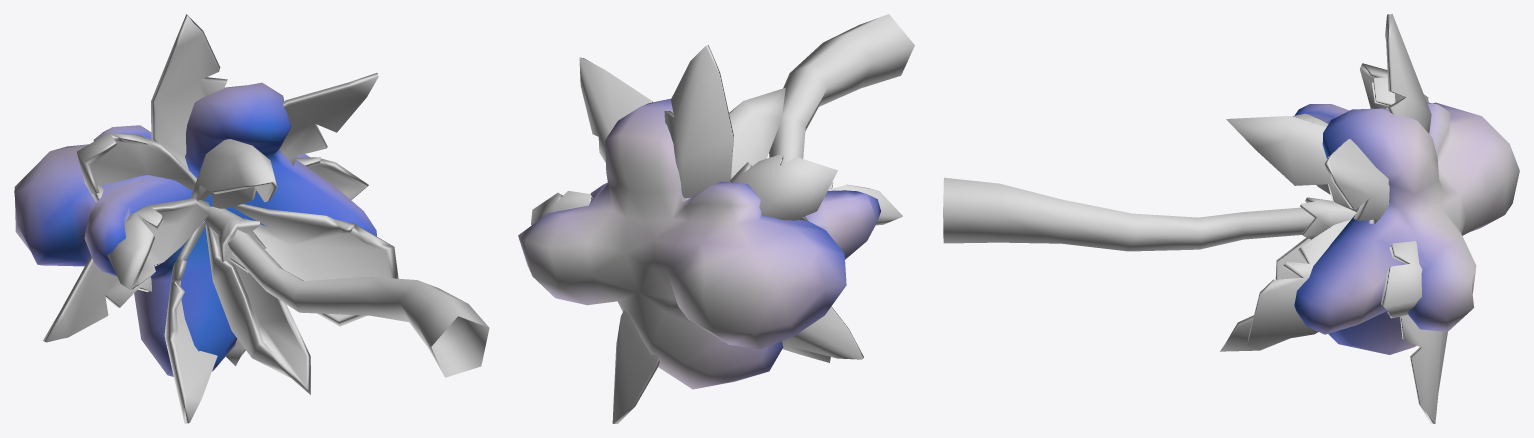
The model's file is BlizzardBeachPalmTree.fbx.
3 views of the same model, side by side, from view 1: azimuth 30°, elevation 25°; view 2: azimuth 150°, elevation 25°; view 3: azimuth 270°, elevation 25° (orthographic).
Parts seen in each view (by area): view 1: BlizzardBeachPalmTree; view 2: BlizzardBeachPalmTree; view 3: BlizzardBeachPalmTree.
Part boxes in pixels (<box>): BlizzardBeachPalmTree: <box>14,14,489,423</box>; BlizzardBeachPalmTree: <box>518,14,914,423</box>; BlizzardBeachPalmTree: <box>943,14,1519,423</box>.
Bounding box in the file's own units: 267 × 297 × 412.
